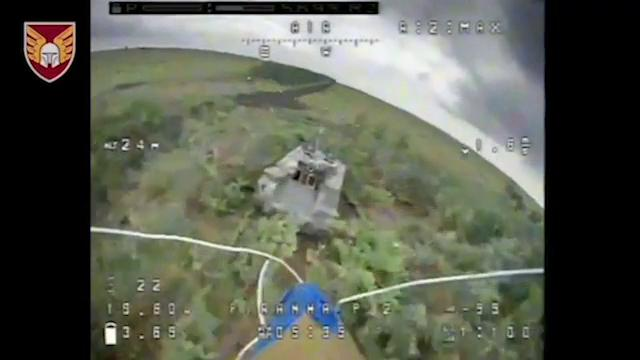tank: (251, 127, 351, 243)
